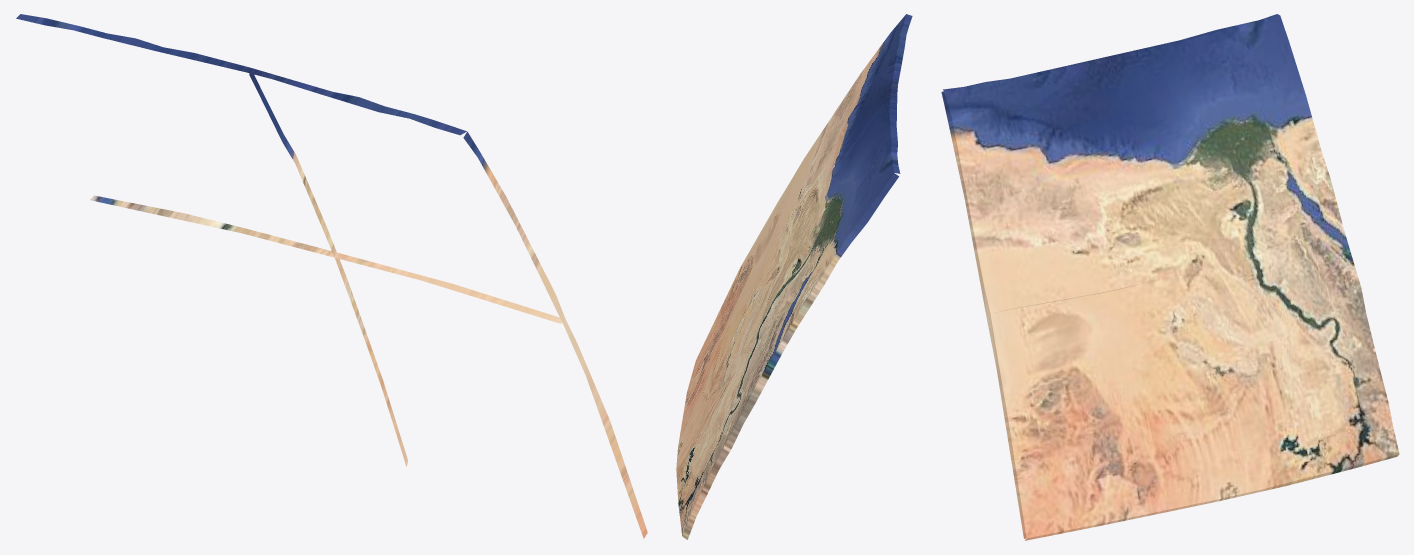
3 renders of one model, left to right at view 1: azimuth 30°, elevation 25°; view 2: azimuth 150°, elevation 25°; view 3: azimuth 270°, elevation 25°, orthographic. The views are drawn at different scales.
Bounding box in the file's own units: 1055686 × 1116671 × 1258765.
1 material, 1 textured.
